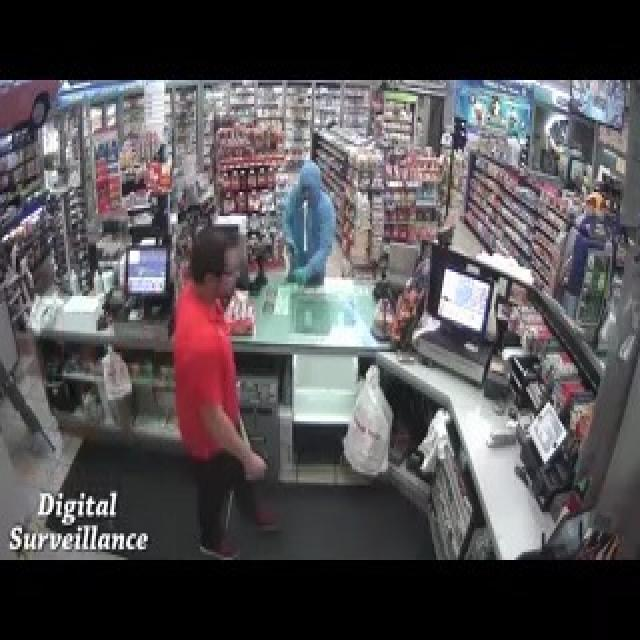Shoplifting: (241, 127, 392, 340)
